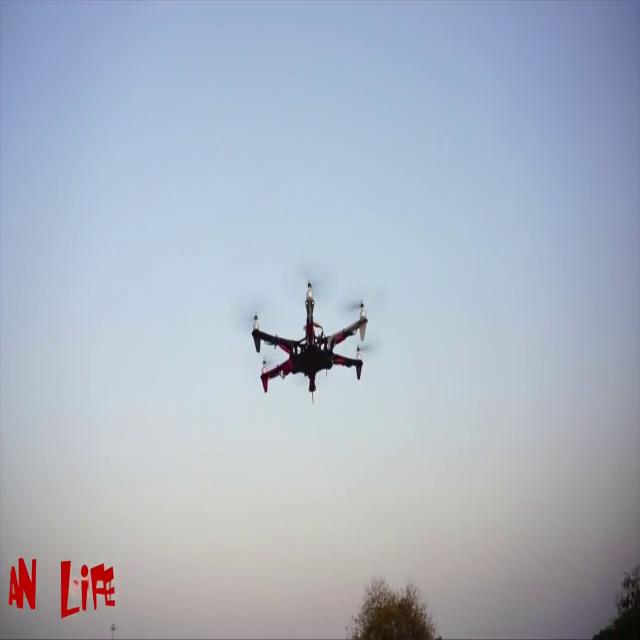drone: (224, 264, 380, 411)
